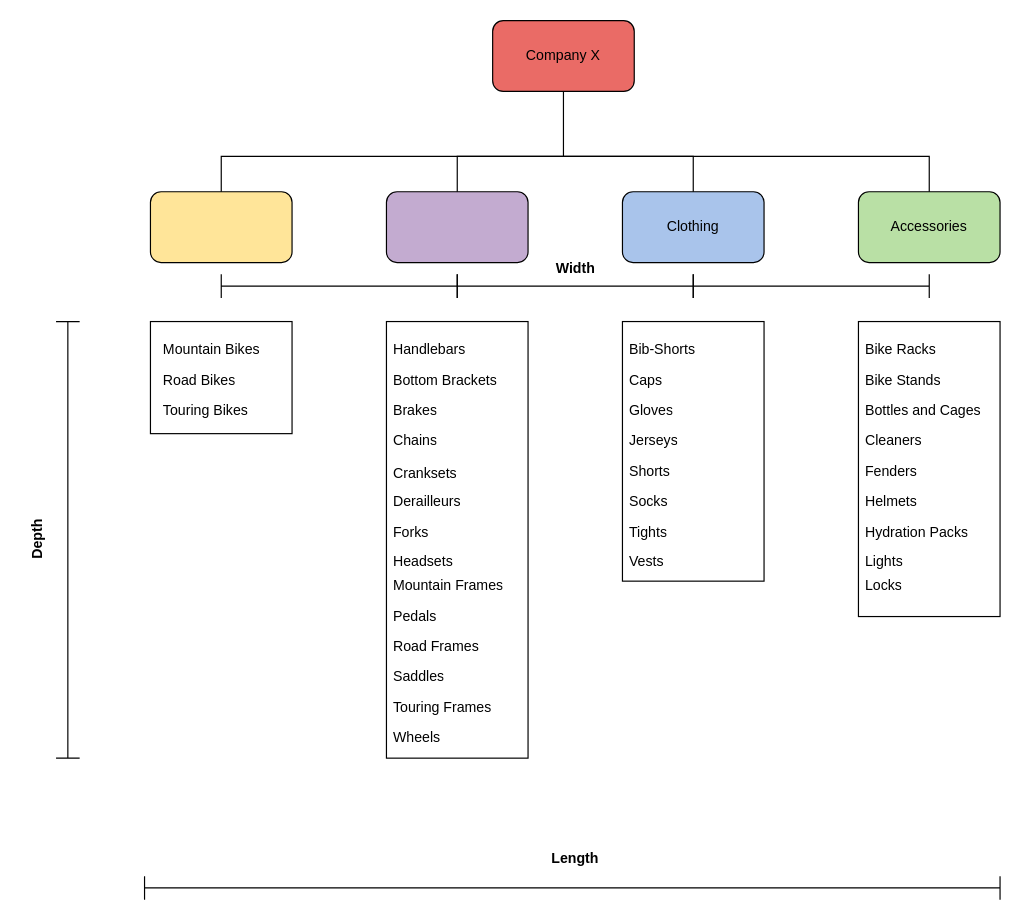
Some shapes in this 1021 by 920 pixel diagram are drawn without their labels. The shapes that lost their labels are listed below. From the top down, each one's centre as x and y in pixels, then its label:
the point at 220,227: Bikes
the point at 456,227: Components
